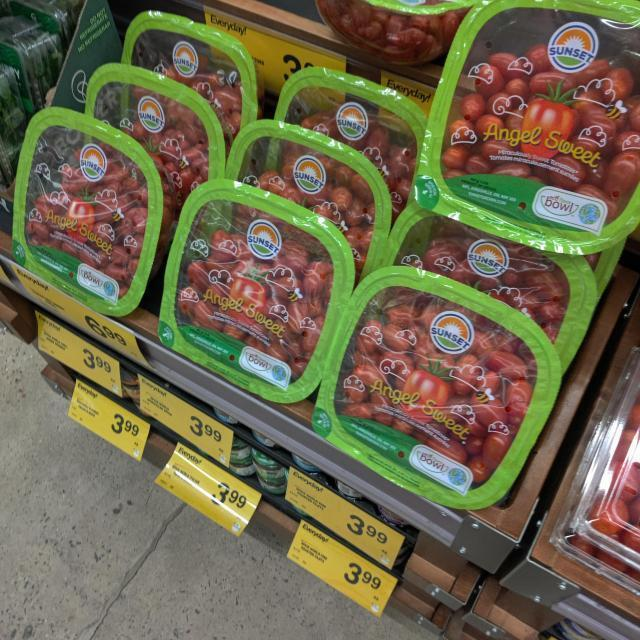Tomatoes: (325, 273, 568, 516), (421, 0, 640, 252), (169, 186, 357, 404), (12, 104, 163, 318)
